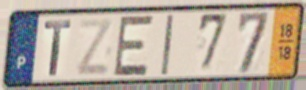7: (235, 10, 271, 76), (196, 12, 231, 77)
E: (111, 13, 156, 79)
I: (160, 13, 176, 78)
T: (43, 18, 73, 78)
Z: (74, 16, 115, 78)
